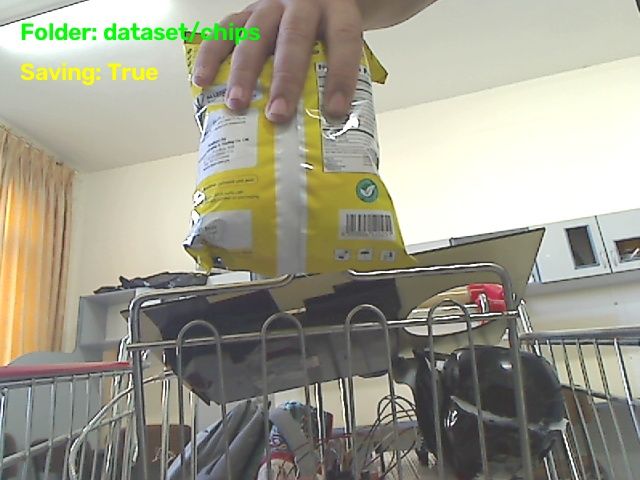chips: (184, 43, 414, 275)
